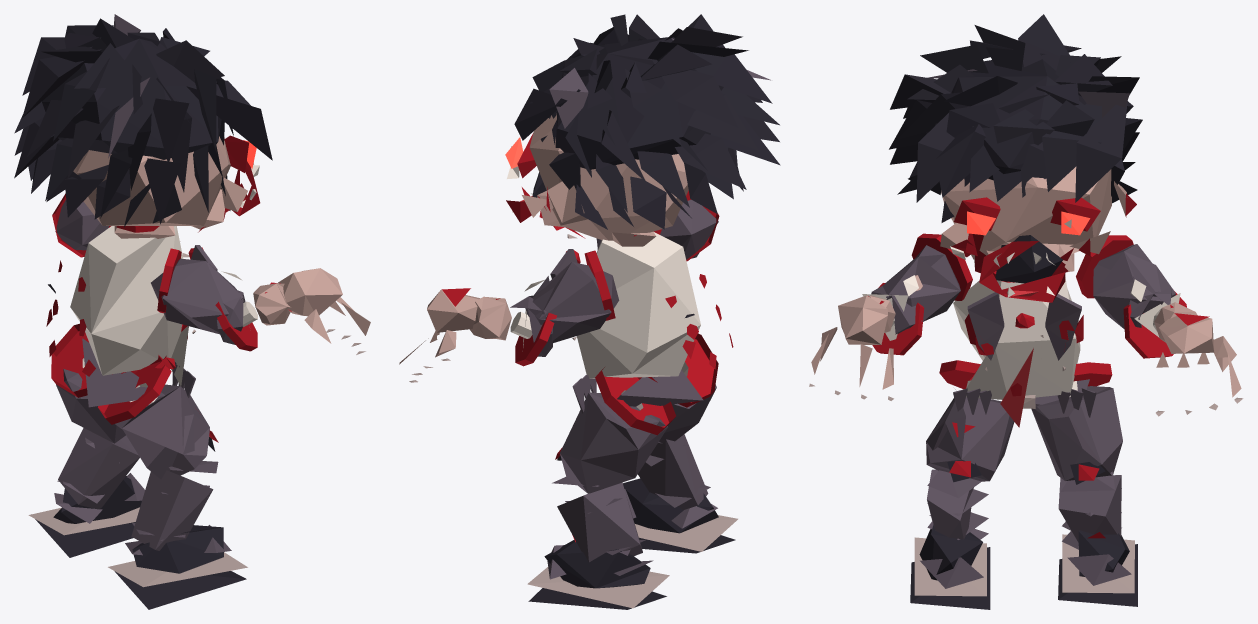
Rendered from inf.common-worker.lod2.glb.
The picture shows the model from 3 angles, left to right: view 1: azimuth 30°, elevation 25°; view 2: azimuth 150°, elevation 25°; view 3: azimuth 270°, elevation 25°; orthographic projection. The views are drawn at different scales.
Visible parts, largest first — view 1: head, torso, footR, legR, shinR, shinL, footL, armR, handR, hip, foreArmR, legL (+5 smaller); view 2: head, torso, legL, footL, shinL, footR, armL, shinR, handL, foreArmL, stump_legL, hip (+5 smaller); view 3: head, torso, legL, footR, legR, footL, armL, shinL, armR, shinR, handL, handR (+8 smaller).
Part boxes in pixels (bbox=[...]): head: bbox=[14, 14, 272, 238]; torso: bbox=[46, 226, 217, 397]; footR: bbox=[108, 525, 247, 609]; legR: bbox=[115, 384, 218, 479]; shinR: bbox=[125, 461, 218, 555]; shinL: bbox=[54, 428, 139, 523]; footL: bbox=[28, 473, 144, 557]; armR: bbox=[151, 258, 242, 334]; handR: bbox=[278, 268, 370, 354]; hip: bbox=[82, 338, 165, 407]; foreArmR: bbox=[217, 282, 290, 344]; legL: bbox=[56, 369, 125, 443]; head: bbox=[505, 14, 780, 246]; torso: bbox=[550, 232, 733, 413]; legL: bbox=[555, 392, 667, 493]; footL: bbox=[527, 540, 669, 609]; shinL: bbox=[552, 476, 653, 575]; footR: bbox=[623, 478, 737, 553]; armL: bbox=[524, 262, 619, 342]; shinR: bbox=[638, 434, 717, 528]; handL: bbox=[399, 288, 480, 382]; foreArmL: bbox=[470, 295, 552, 356]; stump_legL: bbox=[595, 367, 675, 435]; hip: bbox=[617, 370, 703, 406]; head: bbox=[889, 14, 1142, 302]; torso: bbox=[953, 277, 1096, 427]; legL: bbox=[1031, 386, 1122, 484]; footR: bbox=[910, 515, 990, 609]; legR: bbox=[926, 389, 1014, 482]; footL: bbox=[1058, 530, 1137, 606]; armL: bbox=[1093, 244, 1175, 329]; shinL: bbox=[1058, 471, 1121, 549]; armR: bbox=[882, 245, 960, 321]; shinR: bbox=[927, 469, 988, 539]; handL: bbox=[1156, 313, 1243, 416]; handR: bbox=[809, 295, 893, 400].
Size of the model in its own units: 0.9202 by 1.75 by 1.31.
